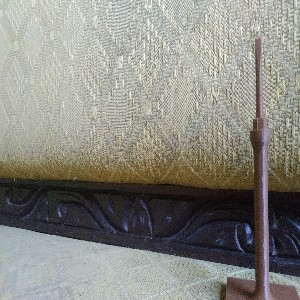obeng: (249, 37, 274, 300)
